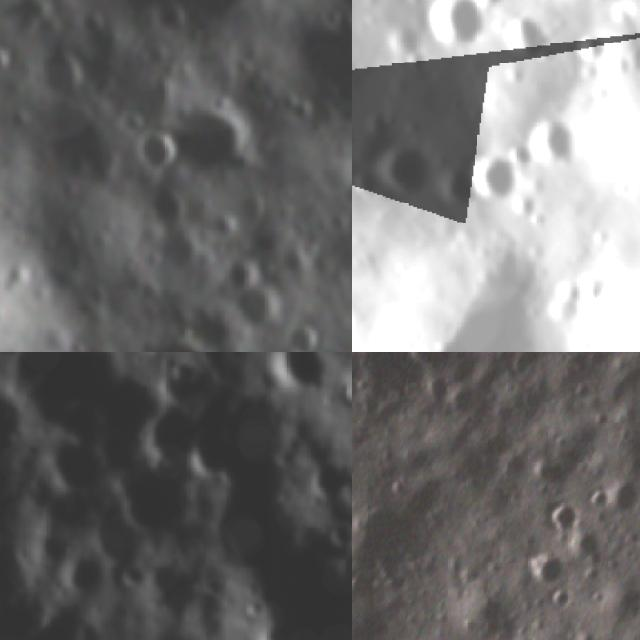crater: (365, 228, 631, 352), (75, 0, 301, 78), (152, 80, 274, 202), (106, 468, 213, 538), (453, 146, 535, 231), (362, 129, 445, 208), (516, 102, 596, 182), (418, 0, 505, 70), (118, 110, 194, 186), (219, 267, 295, 343), (128, 399, 208, 470), (35, 430, 106, 500), (143, 554, 211, 619), (422, 160, 486, 226), (28, 44, 92, 108), (378, 12, 436, 79), (0, 378, 38, 472), (129, 318, 232, 352), (264, 352, 336, 400), (2, 617, 136, 640), (520, 545, 575, 601), (62, 549, 122, 598), (566, 23, 619, 77), (0, 591, 56, 640), (560, 524, 607, 576), (275, 311, 334, 352), (141, 0, 193, 45), (308, 453, 352, 501), (388, 352, 467, 378), (69, 5, 111, 47), (606, 471, 640, 522), (545, 499, 585, 537), (470, 0, 527, 23), (545, 584, 579, 618), (329, 509, 352, 552), (584, 484, 611, 515), (343, 372, 352, 407)
